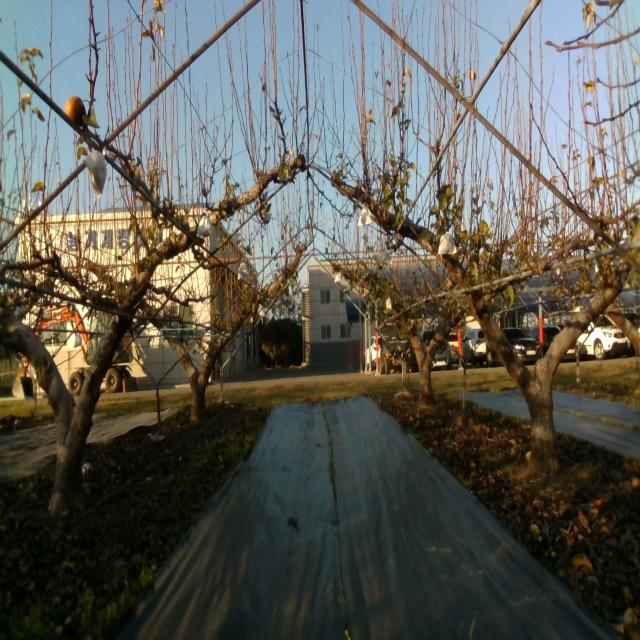pearbags: (82, 146, 107, 202), (196, 210, 214, 240), (438, 231, 457, 255), (379, 244, 393, 267), (358, 207, 372, 228)
